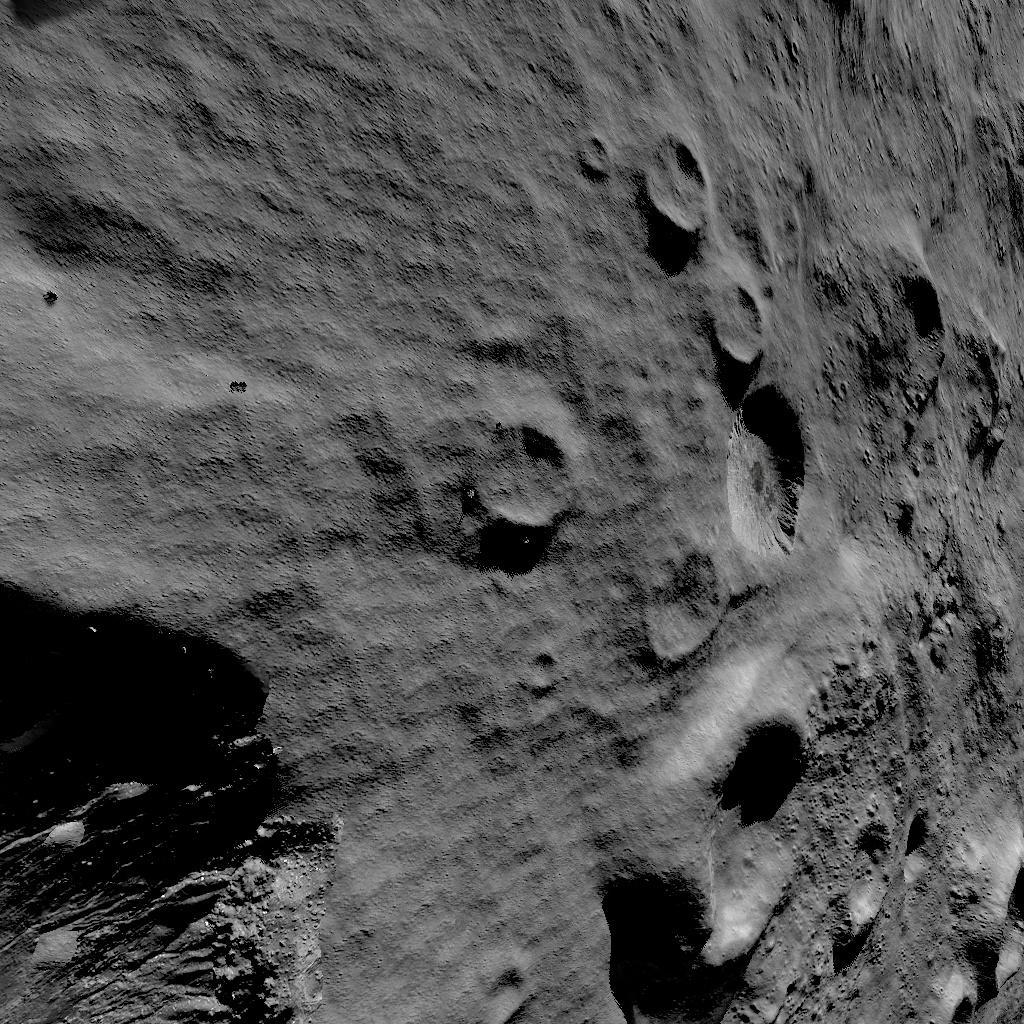Boulders: (0, 598, 343, 1024)
Crater: (586, 654, 810, 1024), (633, 140, 798, 558), (826, 765, 1024, 1024), (952, 298, 1024, 642), (826, 282, 935, 478), (451, 415, 573, 540), (731, 0, 1003, 53), (954, 112, 1020, 258)
Plan surface: (0, 0, 615, 395), (365, 562, 573, 1024), (0, 410, 435, 550)
